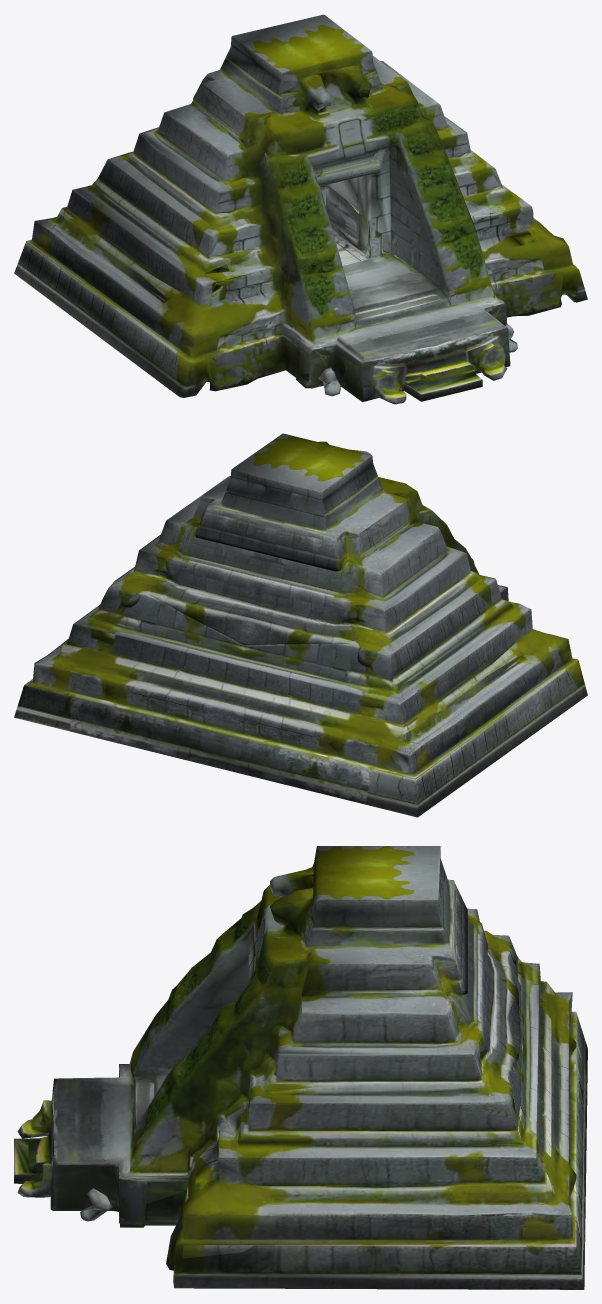
File: jungle_dungeon.glb
3 renders of one model, top to bottom at view 1: azimuth 30°, elevation 25°; view 2: azimuth 150°, elevation 25°; view 3: azimuth 270°, elevation 25°, orthographic. The views are drawn at different scales.
Visible parts, largest first — view 1: 0; view 2: 0; view 3: 0.
Boxes of the visible parts, x1,y1,x2,y2 form: 0: (14,14,587,404); 0: (14,433,587,817); 0: (14,846,587,1289).
Bounding box in the file's own units: 1.91 × 1.08 × 1.91.
1 material, 1 textured.
